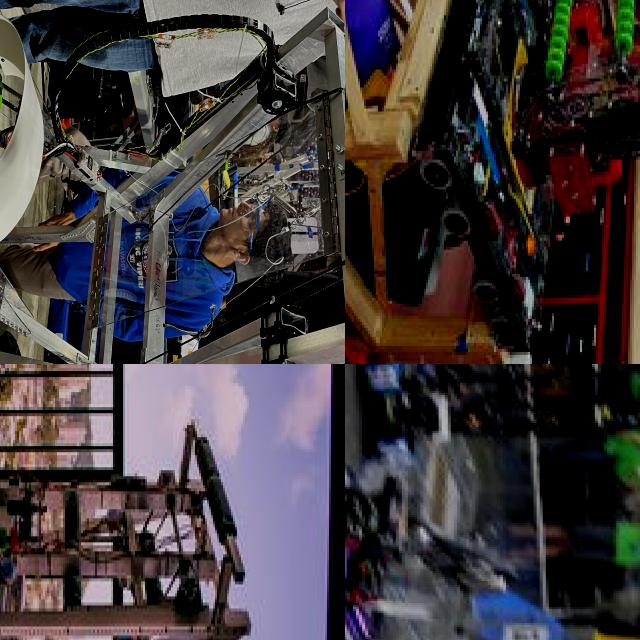FRC-Robots: (0, 5, 345, 364), (0, 364, 305, 640), (414, 0, 640, 364), (367, 364, 640, 476), (345, 494, 489, 640)
